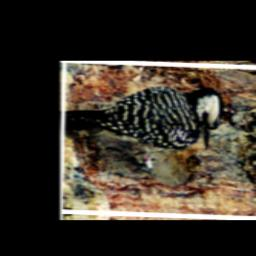Woodpecker: (62, 77, 230, 185)
